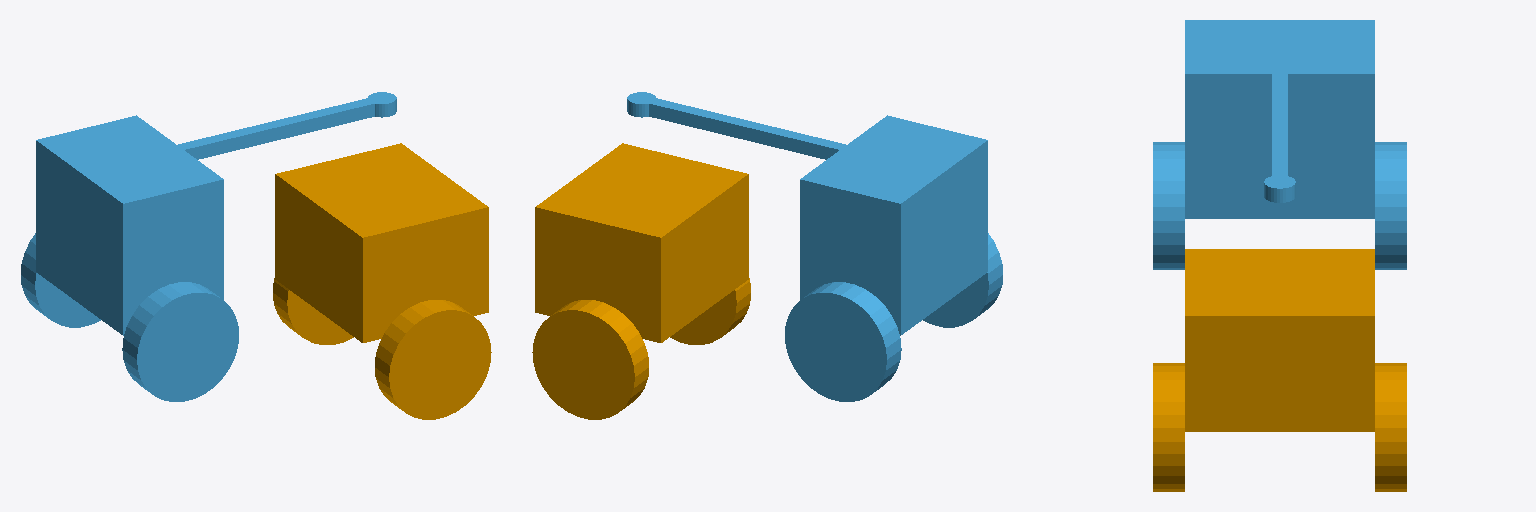
The robot description file, URDF, robot "flexible":
<?xml version="1.0"?>
<robot name="flexible">
  <link name="base_link">
    <visual>
      <geometry>
       <mesh filename="package://thor_joint_encoder/urdf/ThorPro_Front.dae"/>
      </geometry>
    </visual>
  </link>
  <joint name="joint_angle" type="continuous">
    <parent link="base_link"/>
    <child link="rear_link"/>
    <axis xyz="0 0 1"/>
    <origin xyz="0 0 0.3"/>
  </joint>

  
  <link name="rear_link">
    <visual>
      <geometry>
        <mesh filename="package://thor_joint_encoder/urdf/ThorPro_Rear.dae"/>
      </geometry>
    </visual>
  </link>

</robot>

--- What the picture shows (computed from the rendered views, not written in the file) ---
The picture shows the robot from 3 angles, left to right: view 1: azimuth 30°, elevation 25°; view 2: azimuth 150°, elevation 25°; view 3: azimuth 270°, elevation 25°; orthographic projection.
Model flexible with 2 links and 1 joints (1 continuous), rooted at base_link, posed every joint at zero.
Links seen in each view (by area): view 1: rear_link, base_link; view 2: rear_link, base_link; view 3: rear_link, base_link.
Link boxes in pixels (left/top/right/bottom): rear_link: left=21, top=92, right=396, bottom=401; base_link: left=273, top=143, right=491, bottom=419; rear_link: left=627, top=92, right=1002, bottom=401; base_link: left=532, top=143, right=750, bottom=419; rear_link: left=1153, top=20, right=1406, bottom=269; base_link: left=1153, top=249, right=1406, bottom=491.
Bounding box of the posed robot: 1.45 × 0.8 × 1.05 m (x, y, z).
2 mesh visuals loaded from 2 distinct referenced files (2 Collada DAE).